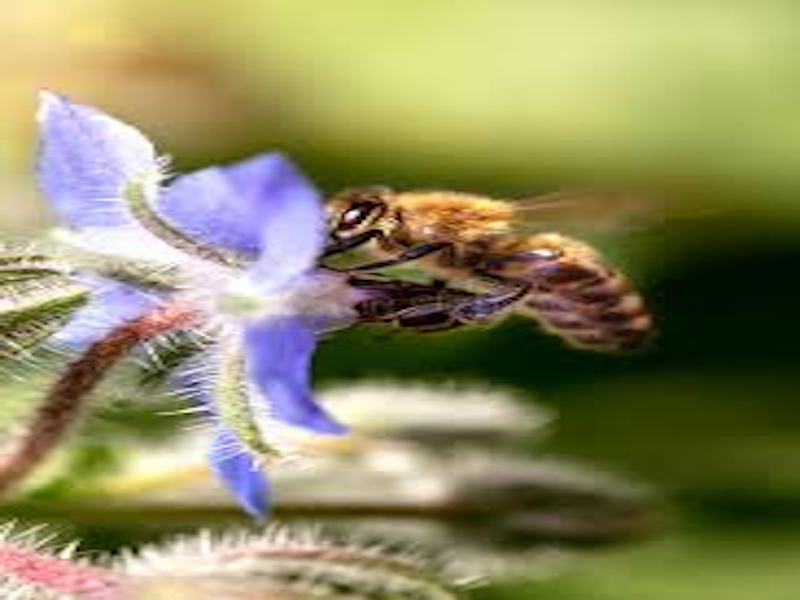abeja: (311, 155, 680, 399)
